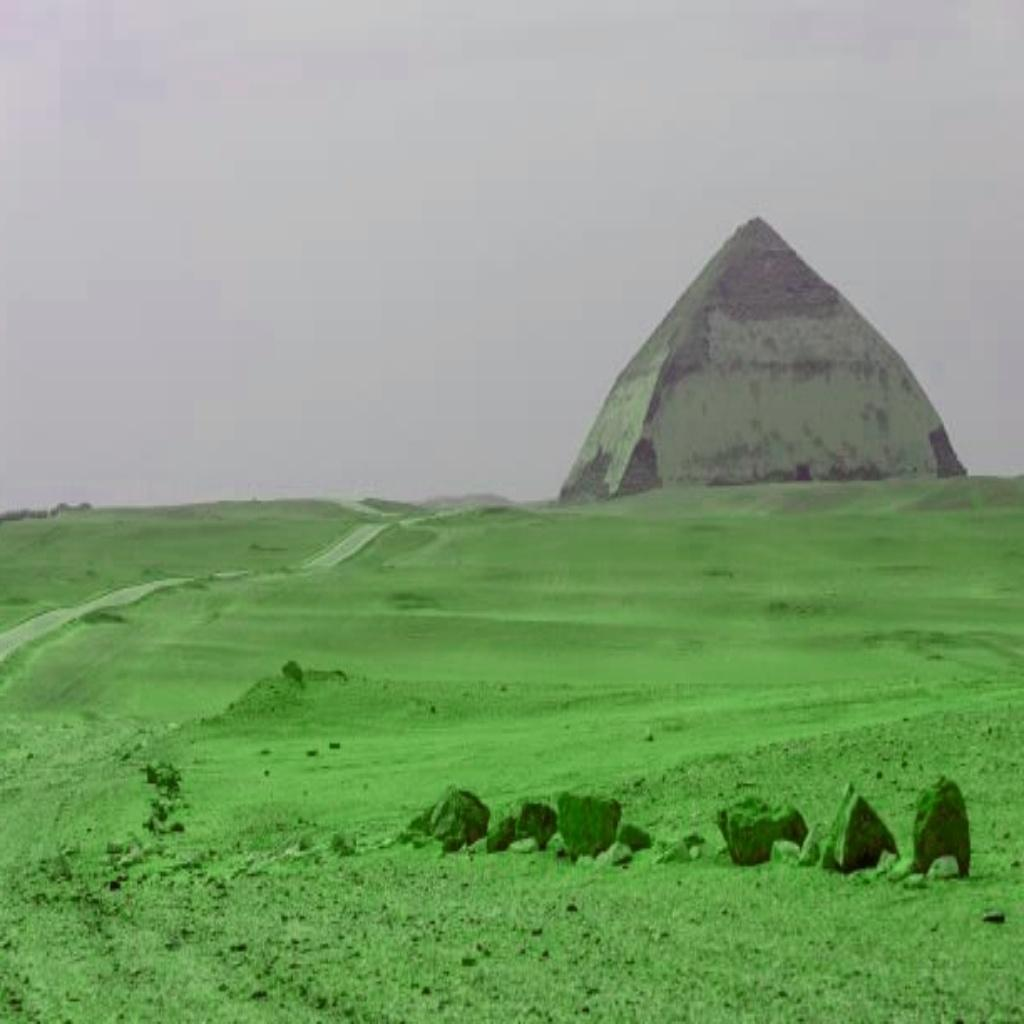Bent Pyramid of King Sneferu: (556, 210, 970, 506)
